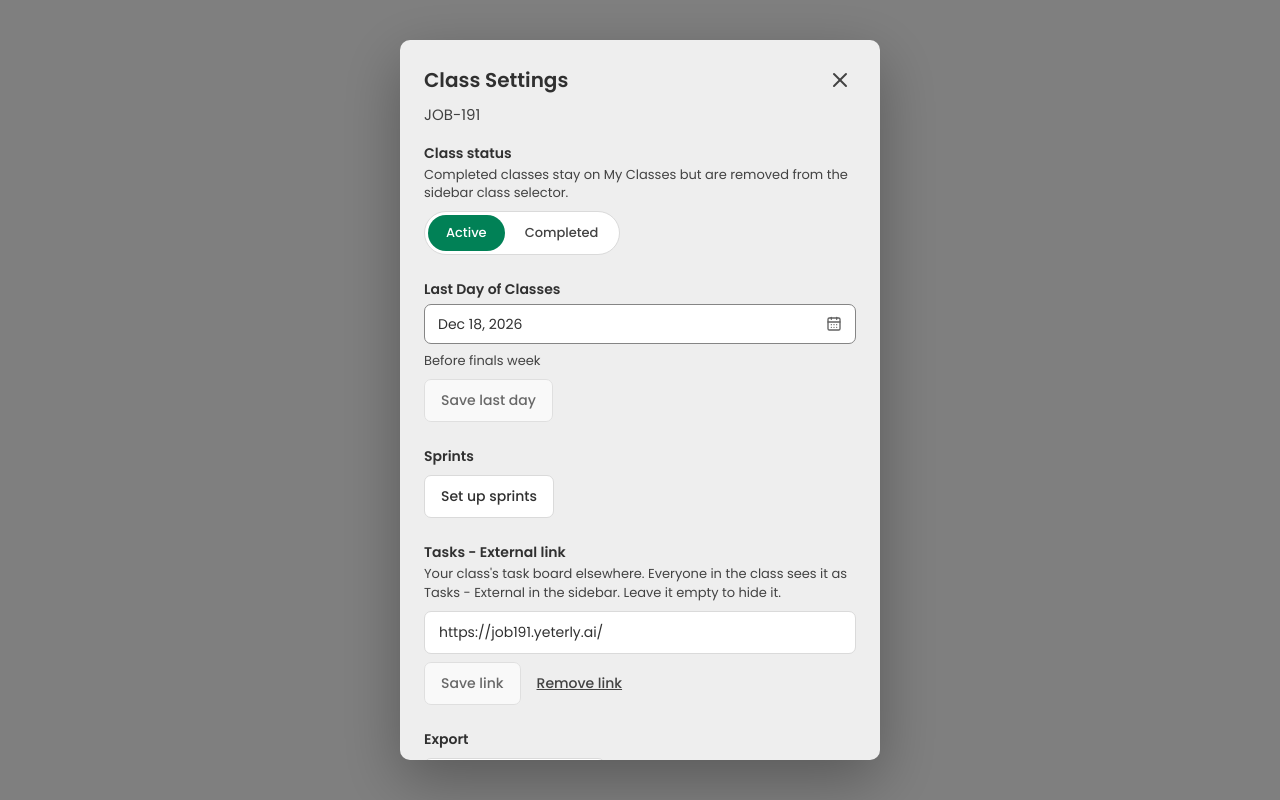
Test case: ClassSettingsModal — Tasks - External link › removes the link
Click the button "Remove link" at (579, 683), box [536,673,622,694]
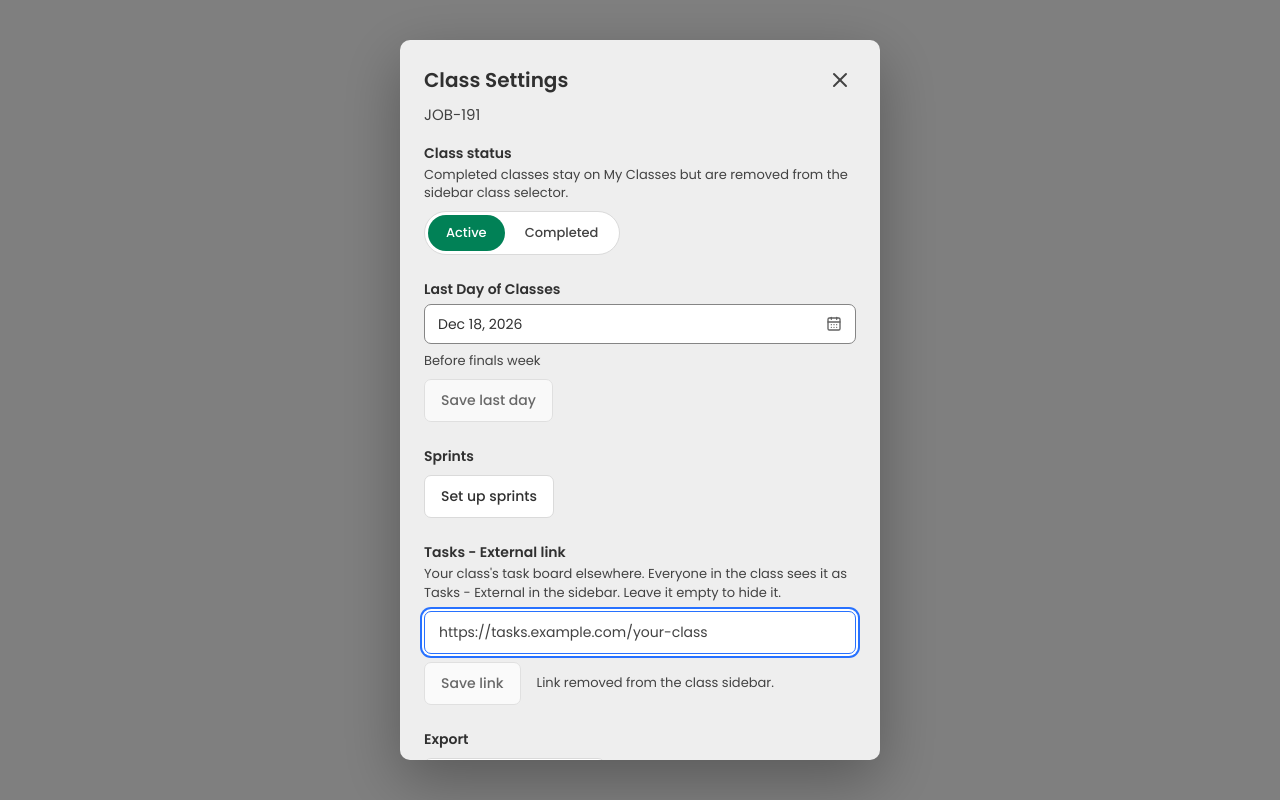
Check: the message shows "removed", box [536,674,774,692]
